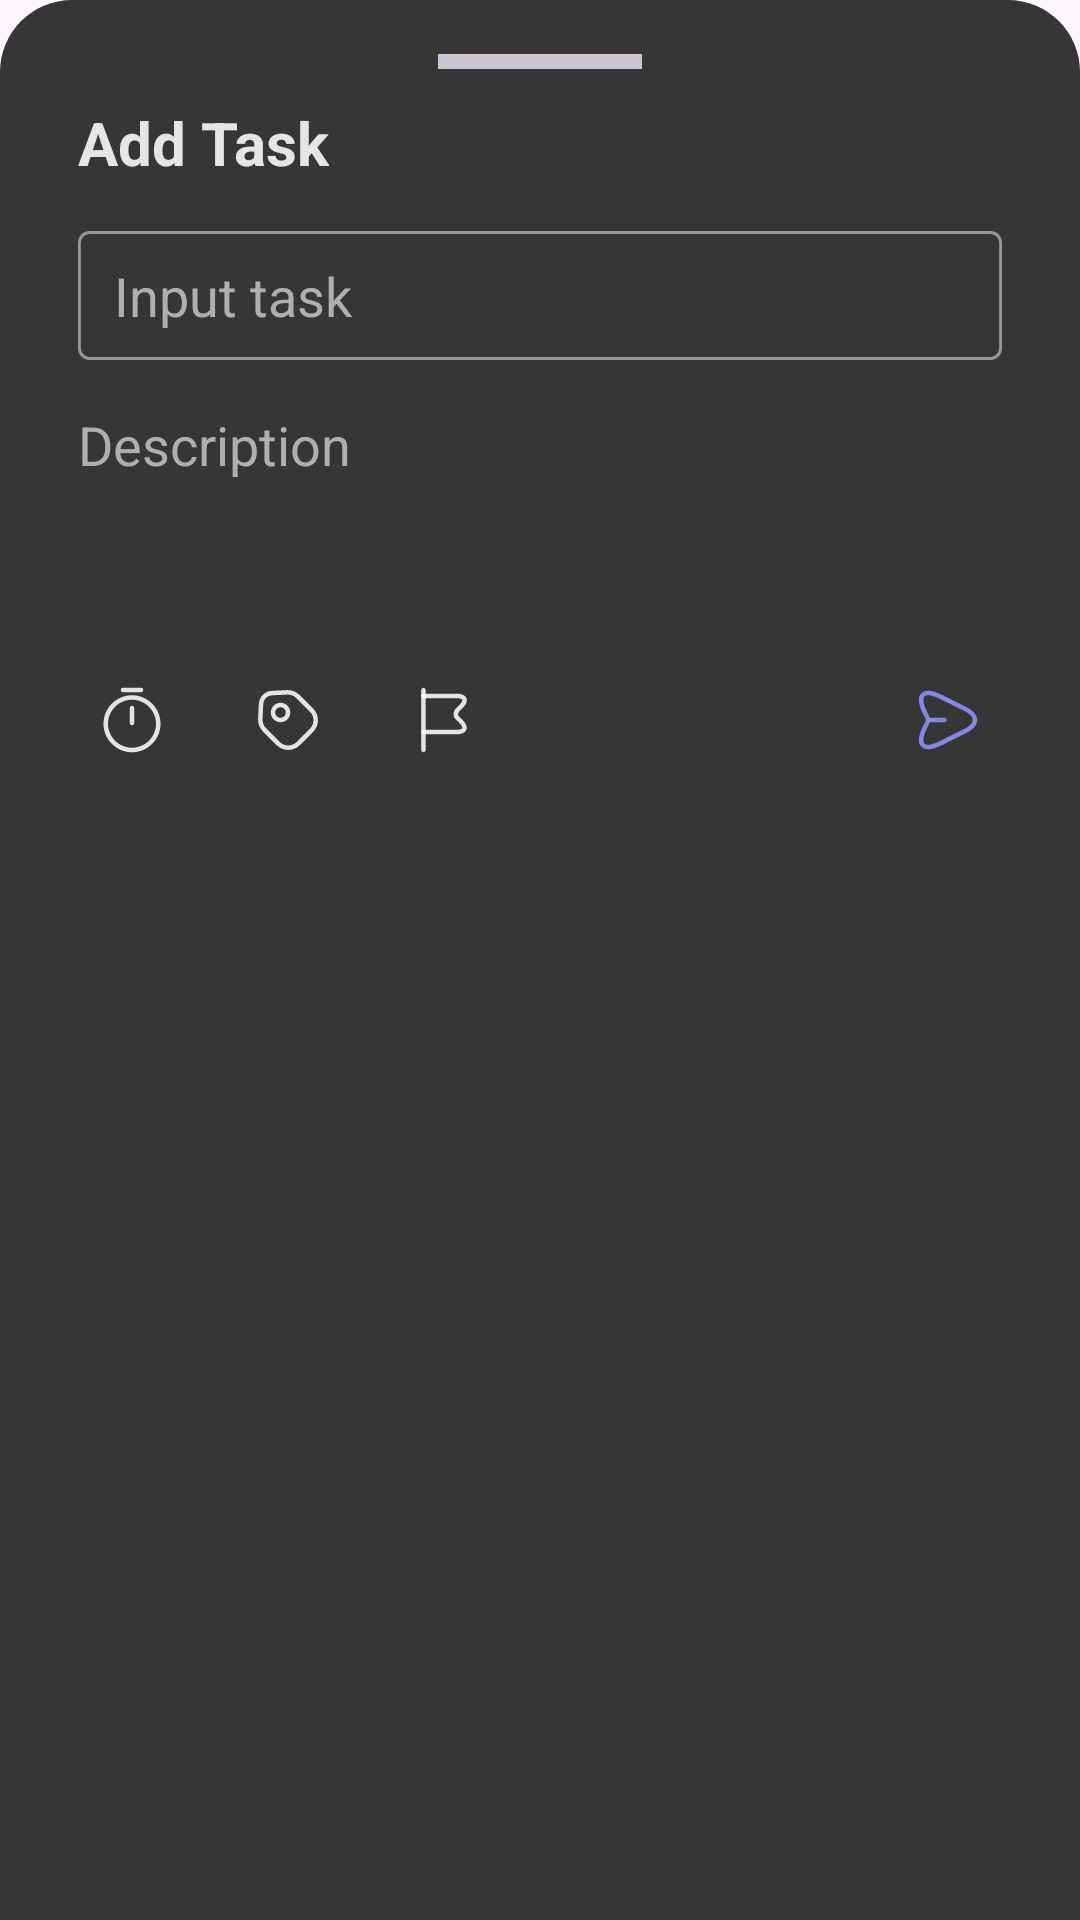

Where icons sit on this 1080×1920 app screen, as detection(x1, y1, x2, y2):
flag: detection(421, 687, 467, 753)
send: detection(919, 690, 977, 750)
tag: detection(258, 690, 318, 750)
timer: detection(103, 687, 161, 753)
